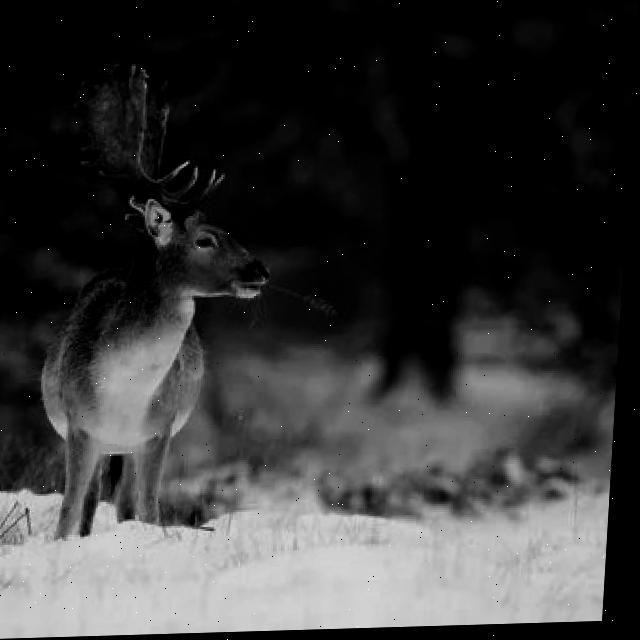Deer: (6, 65, 374, 563)
